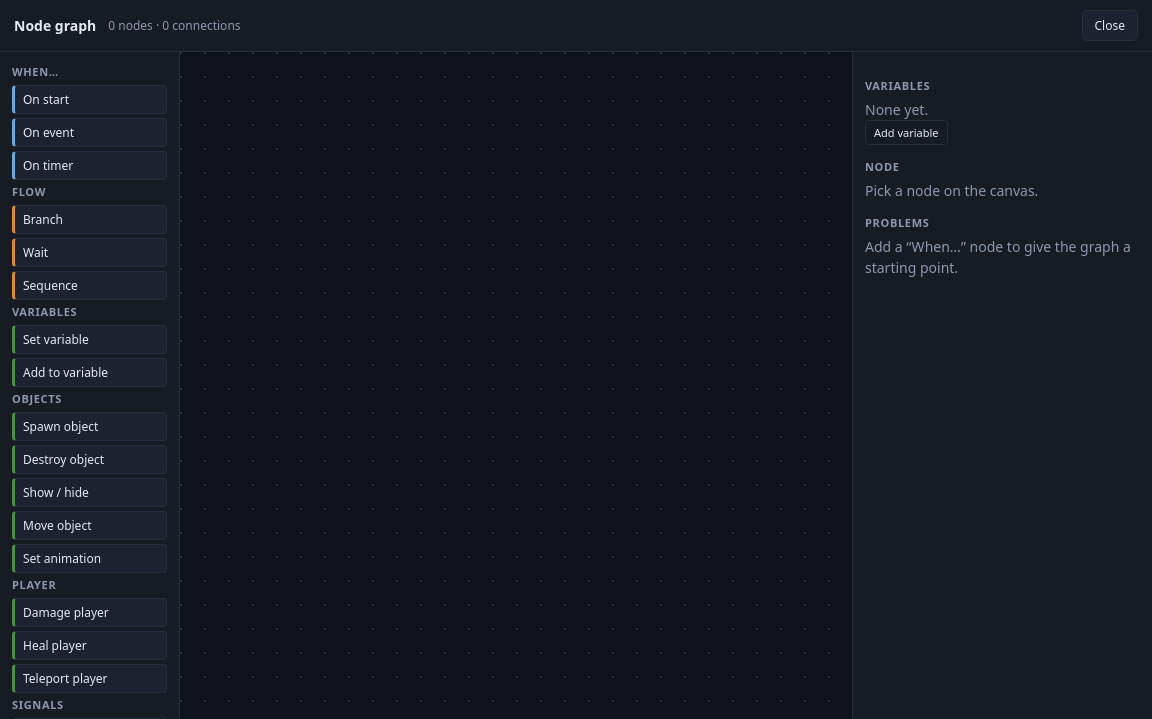
Test: GraphEditor › adds a node from the palette and puts it on the canvas
Click the button "On start" at (90, 100), box x1=12 y1=85 x2=167 y2=114
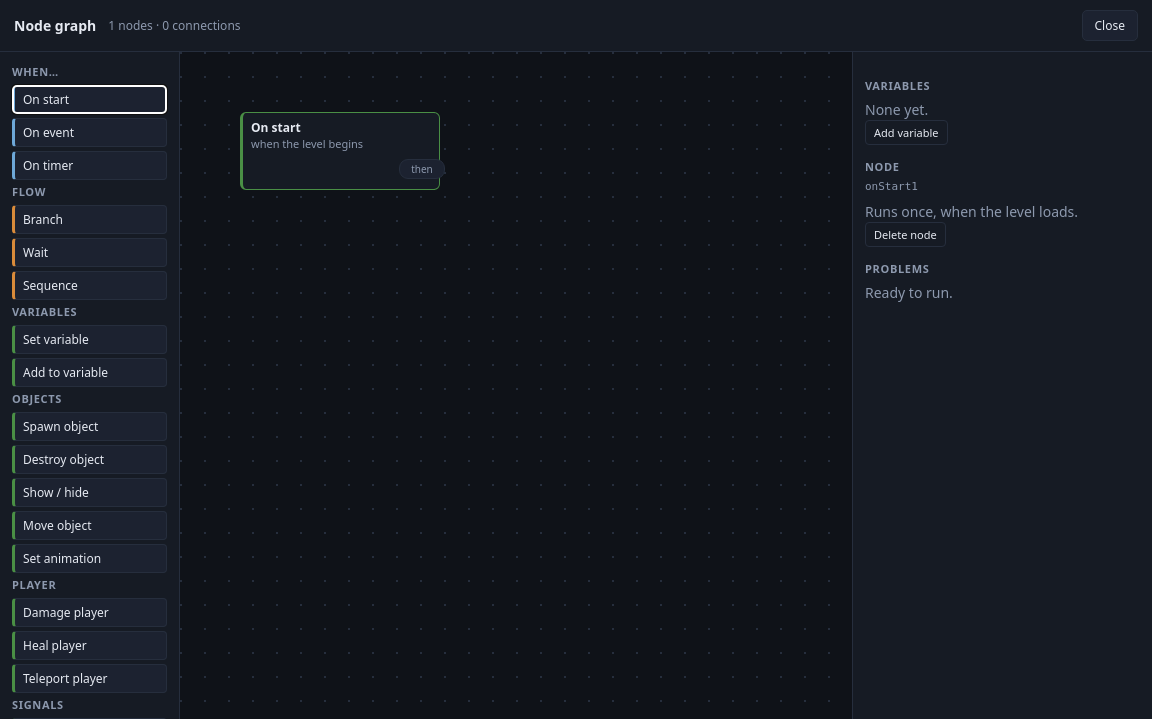
Now the button with aria-label "On start onStart1" is shown, box x1=243 y1=113 x2=439 y2=157
